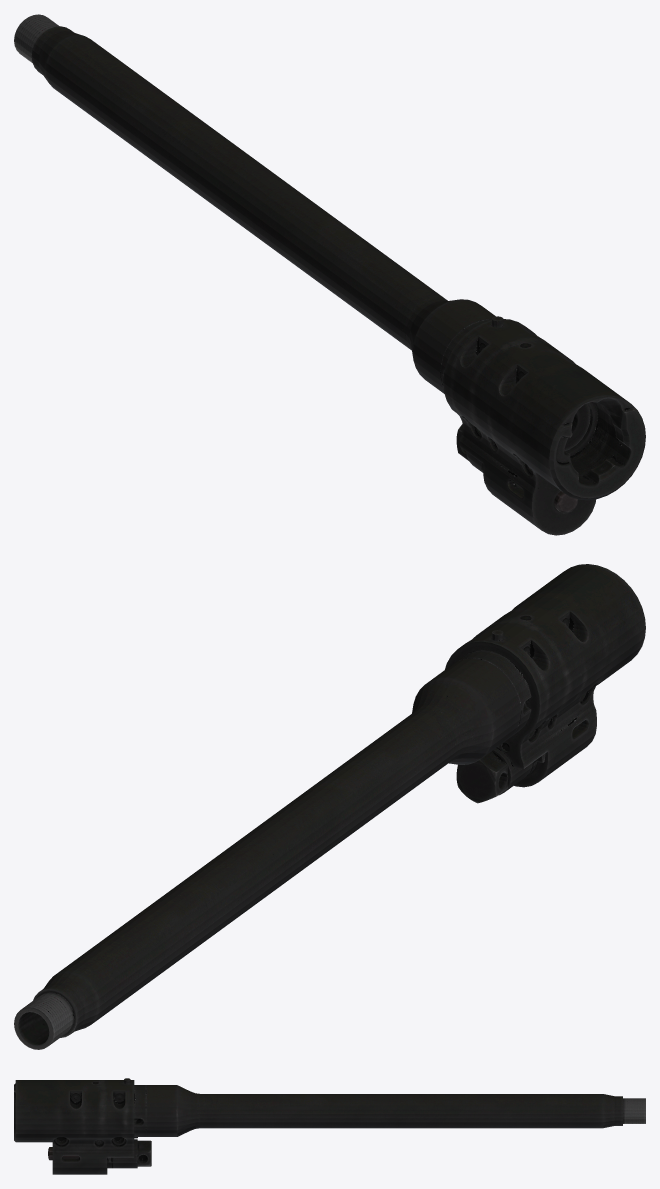
3 renders of one model, top to bottom at view 1: azimuth 30°, elevation 25°; view 2: azimuth 150°, elevation 25°; view 3: azimuth 270°, elevation 25°, orthographic. The views are drawn at different scales.
Parts seen in each view (by area): view 1: TW_5c5db5b82e2216003a0fe71d_PZ_Import; view 2: TW_5c5db5b82e2216003a0fe71d_PZ_Import; view 3: TW_5c5db5b82e2216003a0fe71d_PZ_Import.
Part boxes in pixels (bbox=[...]): TW_5c5db5b82e2216003a0fe71d_PZ_Import: bbox=[14, 14, 645, 535]; TW_5c5db5b82e2216003a0fe71d_PZ_Import: bbox=[14, 564, 645, 1049]; TW_5c5db5b82e2216003a0fe71d_PZ_Import: bbox=[14, 1078, 645, 1174].
Size of the model in its own units: 0.016 by 0.1613 by 0.0263.
Materials: 1 (1 with a texture image).
